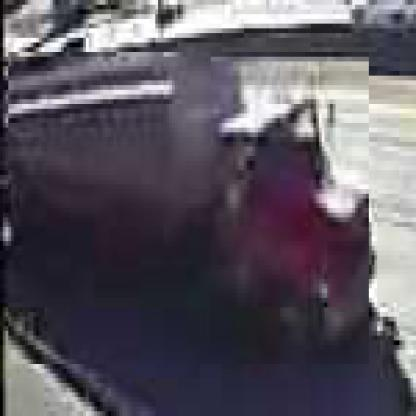truck: (9, 53, 373, 370)
